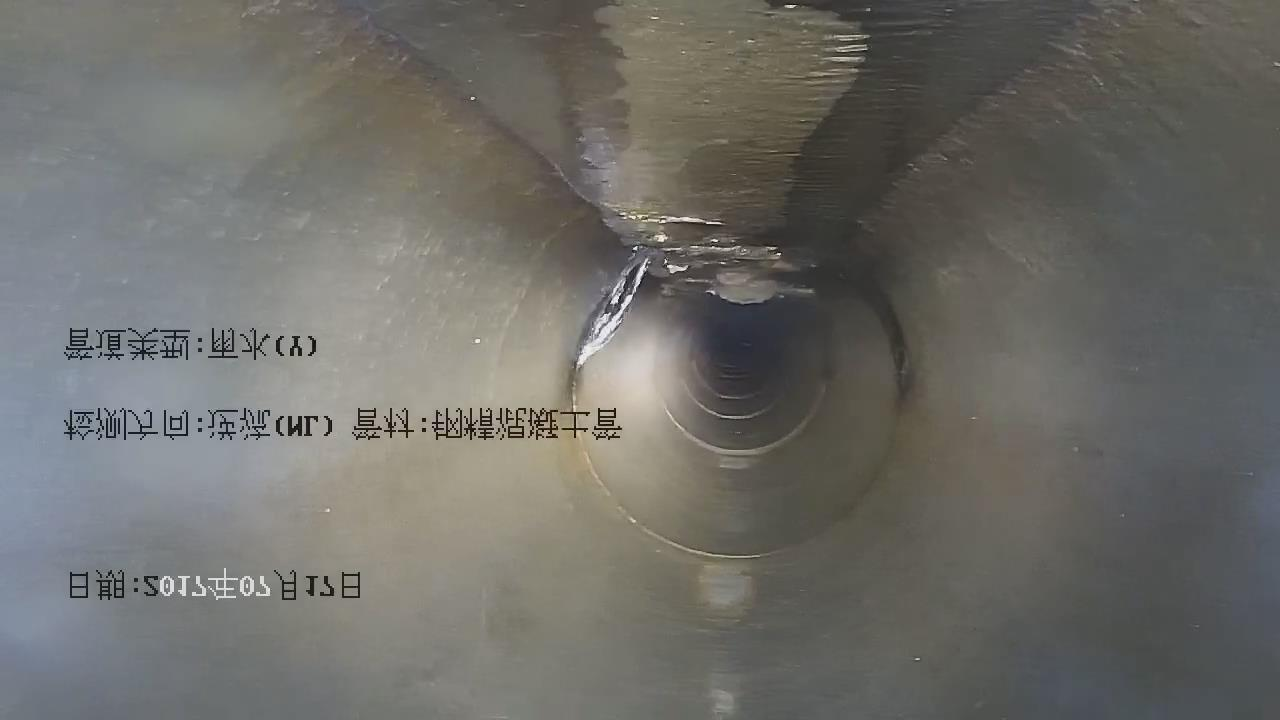CJ: (351, 1, 1090, 304)
SL: (568, 236, 667, 382)
